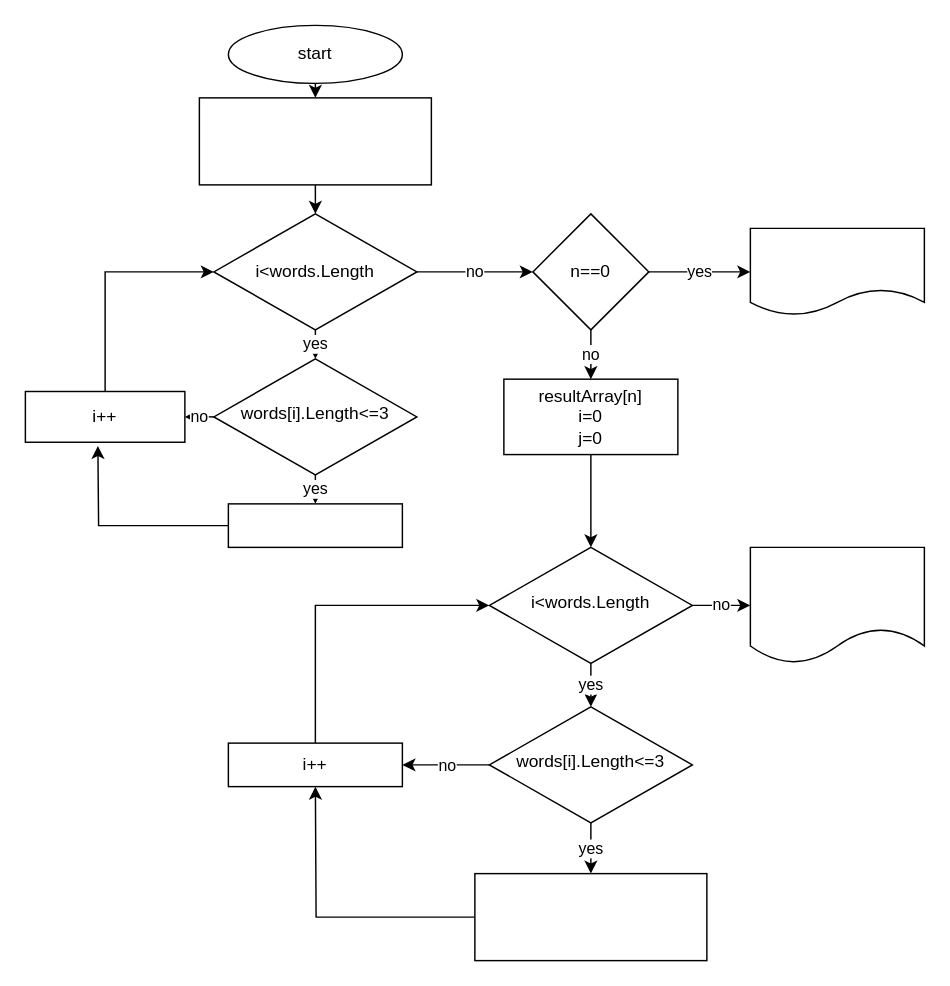
Some shapes in this 950 by 986 pixel diagram are drawn without their labels. The shapes that lost their labels are listed below. From the top down, each one's centre as x and y in pixels, then its label:
At (314,140): "n=0 words[] i=0".
At (836,271): "нет элементов, длина которых < или = 3".
At (314,524): "n++".
At (836,604): "print resultArray".
At (590,916): "resultArray[j] = words[i] j++".
